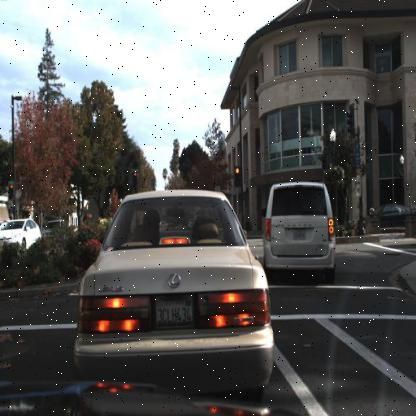car: (79, 186, 267, 384), (262, 180, 334, 278), (360, 198, 413, 232), (0, 216, 42, 252), (0, 219, 29, 247)
trafficLight-Red: (233, 165, 241, 188), (7, 180, 15, 200), (130, 169, 138, 188)
